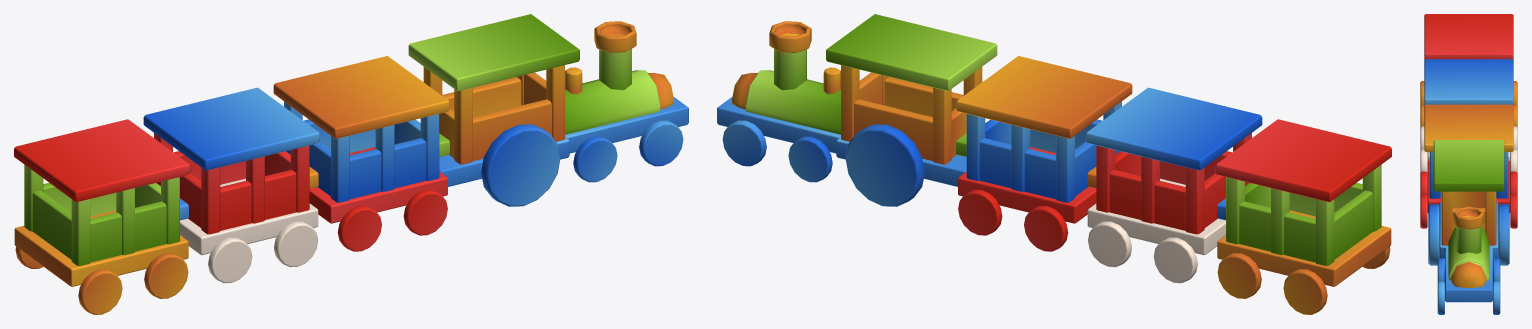
Rendered from Locomotive.fbx.
The picture shows the model from 3 angles, left to right: view 1: azimuth 30°, elevation 25°; view 2: azimuth 150°, elevation 25°; view 3: azimuth 270°, elevation 25°; orthographic projection. The views are drawn at different scales.
Parts seen in each view (by area): view 1: Locomotive_Mesh, Locomotive_Roof_2, Locomotive_Roof_3, Locomotive_Roof_4, Locomotive_Roof_1, Locomotive_Wheel_12, Locomotive_Wheel_11, Locomotive_Wheel_10, Locomotive_Wheel_13, Locomotive_Wheel_15, Locomotive_Wheel_16, Locomotive_Wheel_17 (+2 smaller); view 2: Locomotive_Mesh, Locomotive_Roof_2, Locomotive_Roof_3, Locomotive_Roof_4, Locomotive_Roof_1, Locomotive_Wheel_3, Locomotive_Wheel_2, Locomotive_Wheel_1, Locomotive_Wheel_4, Locomotive_Wheel_6, Locomotive_Wheel_7, Locomotive_Wheel_8 (+2 smaller); view 3: Locomotive_Mesh, Locomotive_Roof_3, Locomotive_Roof_4, Locomotive_Roof_1, Locomotive_Roof_2, Locomotive_Wheel_3, Locomotive_Wheel_12, Locomotive_Wheel_4, Locomotive_Wheel_13, Locomotive_Wheel_1, Locomotive_Wheel_10, Locomotive_Wheel_5 (+11 smaller).
Part boxes in pixels (bbox=[...]): Locomotive_Mesh: bbox=[14, 21, 688, 286]; Locomotive_Roof_2: bbox=[273, 56, 449, 138]; Locomotive_Roof_3: bbox=[143, 87, 319, 170]; Locomotive_Roof_4: bbox=[14, 119, 190, 202]; Locomotive_Roof_1: bbox=[408, 14, 579, 91]; Locomotive_Wheel_12: bbox=[481, 124, 560, 206]; Locomotive_Wheel_11: bbox=[573, 136, 617, 182]; Locomotive_Wheel_10: bbox=[639, 120, 683, 166]; Locomotive_Wheel_13: bbox=[403, 189, 447, 235]; Locomotive_Wheel_15: bbox=[274, 221, 317, 267]; Locomotive_Wheel_16: bbox=[208, 237, 252, 283]; Locomotive_Wheel_17: bbox=[144, 253, 188, 298]; Locomotive_Mesh: bbox=[717, 21, 1391, 286]; Locomotive_Roof_2: bbox=[956, 56, 1132, 138]; Locomotive_Roof_3: bbox=[1086, 87, 1262, 170]; Locomotive_Roof_4: bbox=[1215, 119, 1391, 202]; Locomotive_Roof_1: bbox=[826, 14, 997, 91]; Locomotive_Wheel_3: bbox=[845, 124, 924, 206]; Locomotive_Wheel_2: bbox=[788, 136, 832, 182]; Locomotive_Wheel_1: bbox=[722, 120, 766, 166]; Locomotive_Wheel_4: bbox=[958, 189, 1002, 235]; Locomotive_Wheel_6: bbox=[1088, 221, 1131, 267]; Locomotive_Wheel_7: bbox=[1153, 237, 1197, 283]; Locomotive_Wheel_8: bbox=[1217, 253, 1261, 298]; Locomotive_Mesh: bbox=[1427, 152, 1510, 302]; Locomotive_Roof_3: bbox=[1424, 59, 1513, 105]; Locomotive_Roof_4: bbox=[1424, 14, 1513, 59]; Locomotive_Roof_1: bbox=[1433, 140, 1504, 191]; Locomotive_Roof_2: bbox=[1424, 104, 1513, 151]; Locomotive_Wheel_3: bbox=[1498, 204, 1509, 265]; Locomotive_Wheel_12: bbox=[1428, 204, 1439, 265]; Locomotive_Wheel_4: bbox=[1510, 194, 1517, 228]; Locomotive_Wheel_13: bbox=[1420, 194, 1427, 228]; Locomotive_Wheel_1: bbox=[1493, 281, 1500, 314]; Locomotive_Wheel_10: bbox=[1437, 281, 1444, 314]; Locomotive_Wheel_5: bbox=[1510, 171, 1517, 195].
Bounding box in the file's own units: 927 × 198 × 173.
